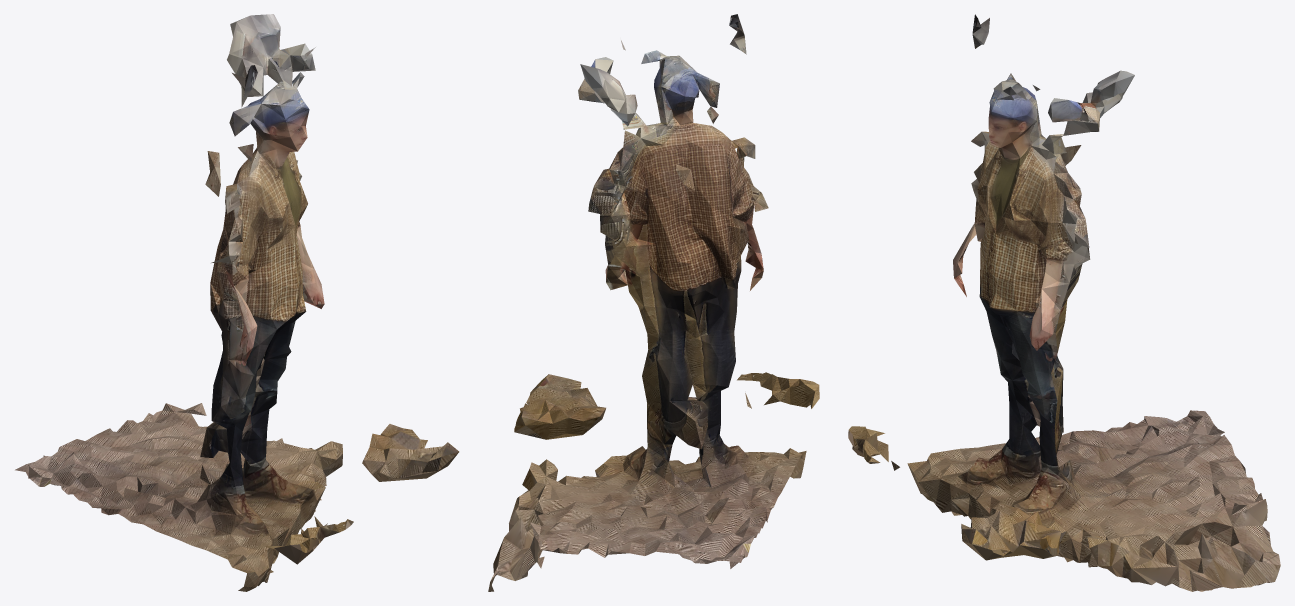
File: brian.obj
3 renders of one model, left to right at view 1: azimuth 30°, elevation 25°; view 2: azimuth 150°, elevation 25°; view 3: azimuth 270°, elevation 25°, orthographic. The views are drawn at different scales.
Parts seen in each view (by area): view 1: brian; view 2: brian; view 3: brian.
Part boxes in pixels (<box>): brian: <box>15,14,459,591</box>; brian: <box>488,14,819,591</box>; brian: <box>848,14,1280,591</box>.
Bounding box in the file's own units: 11.98 × 18.2 × 13.82.
Materials: 1 (1 with a texture image).
